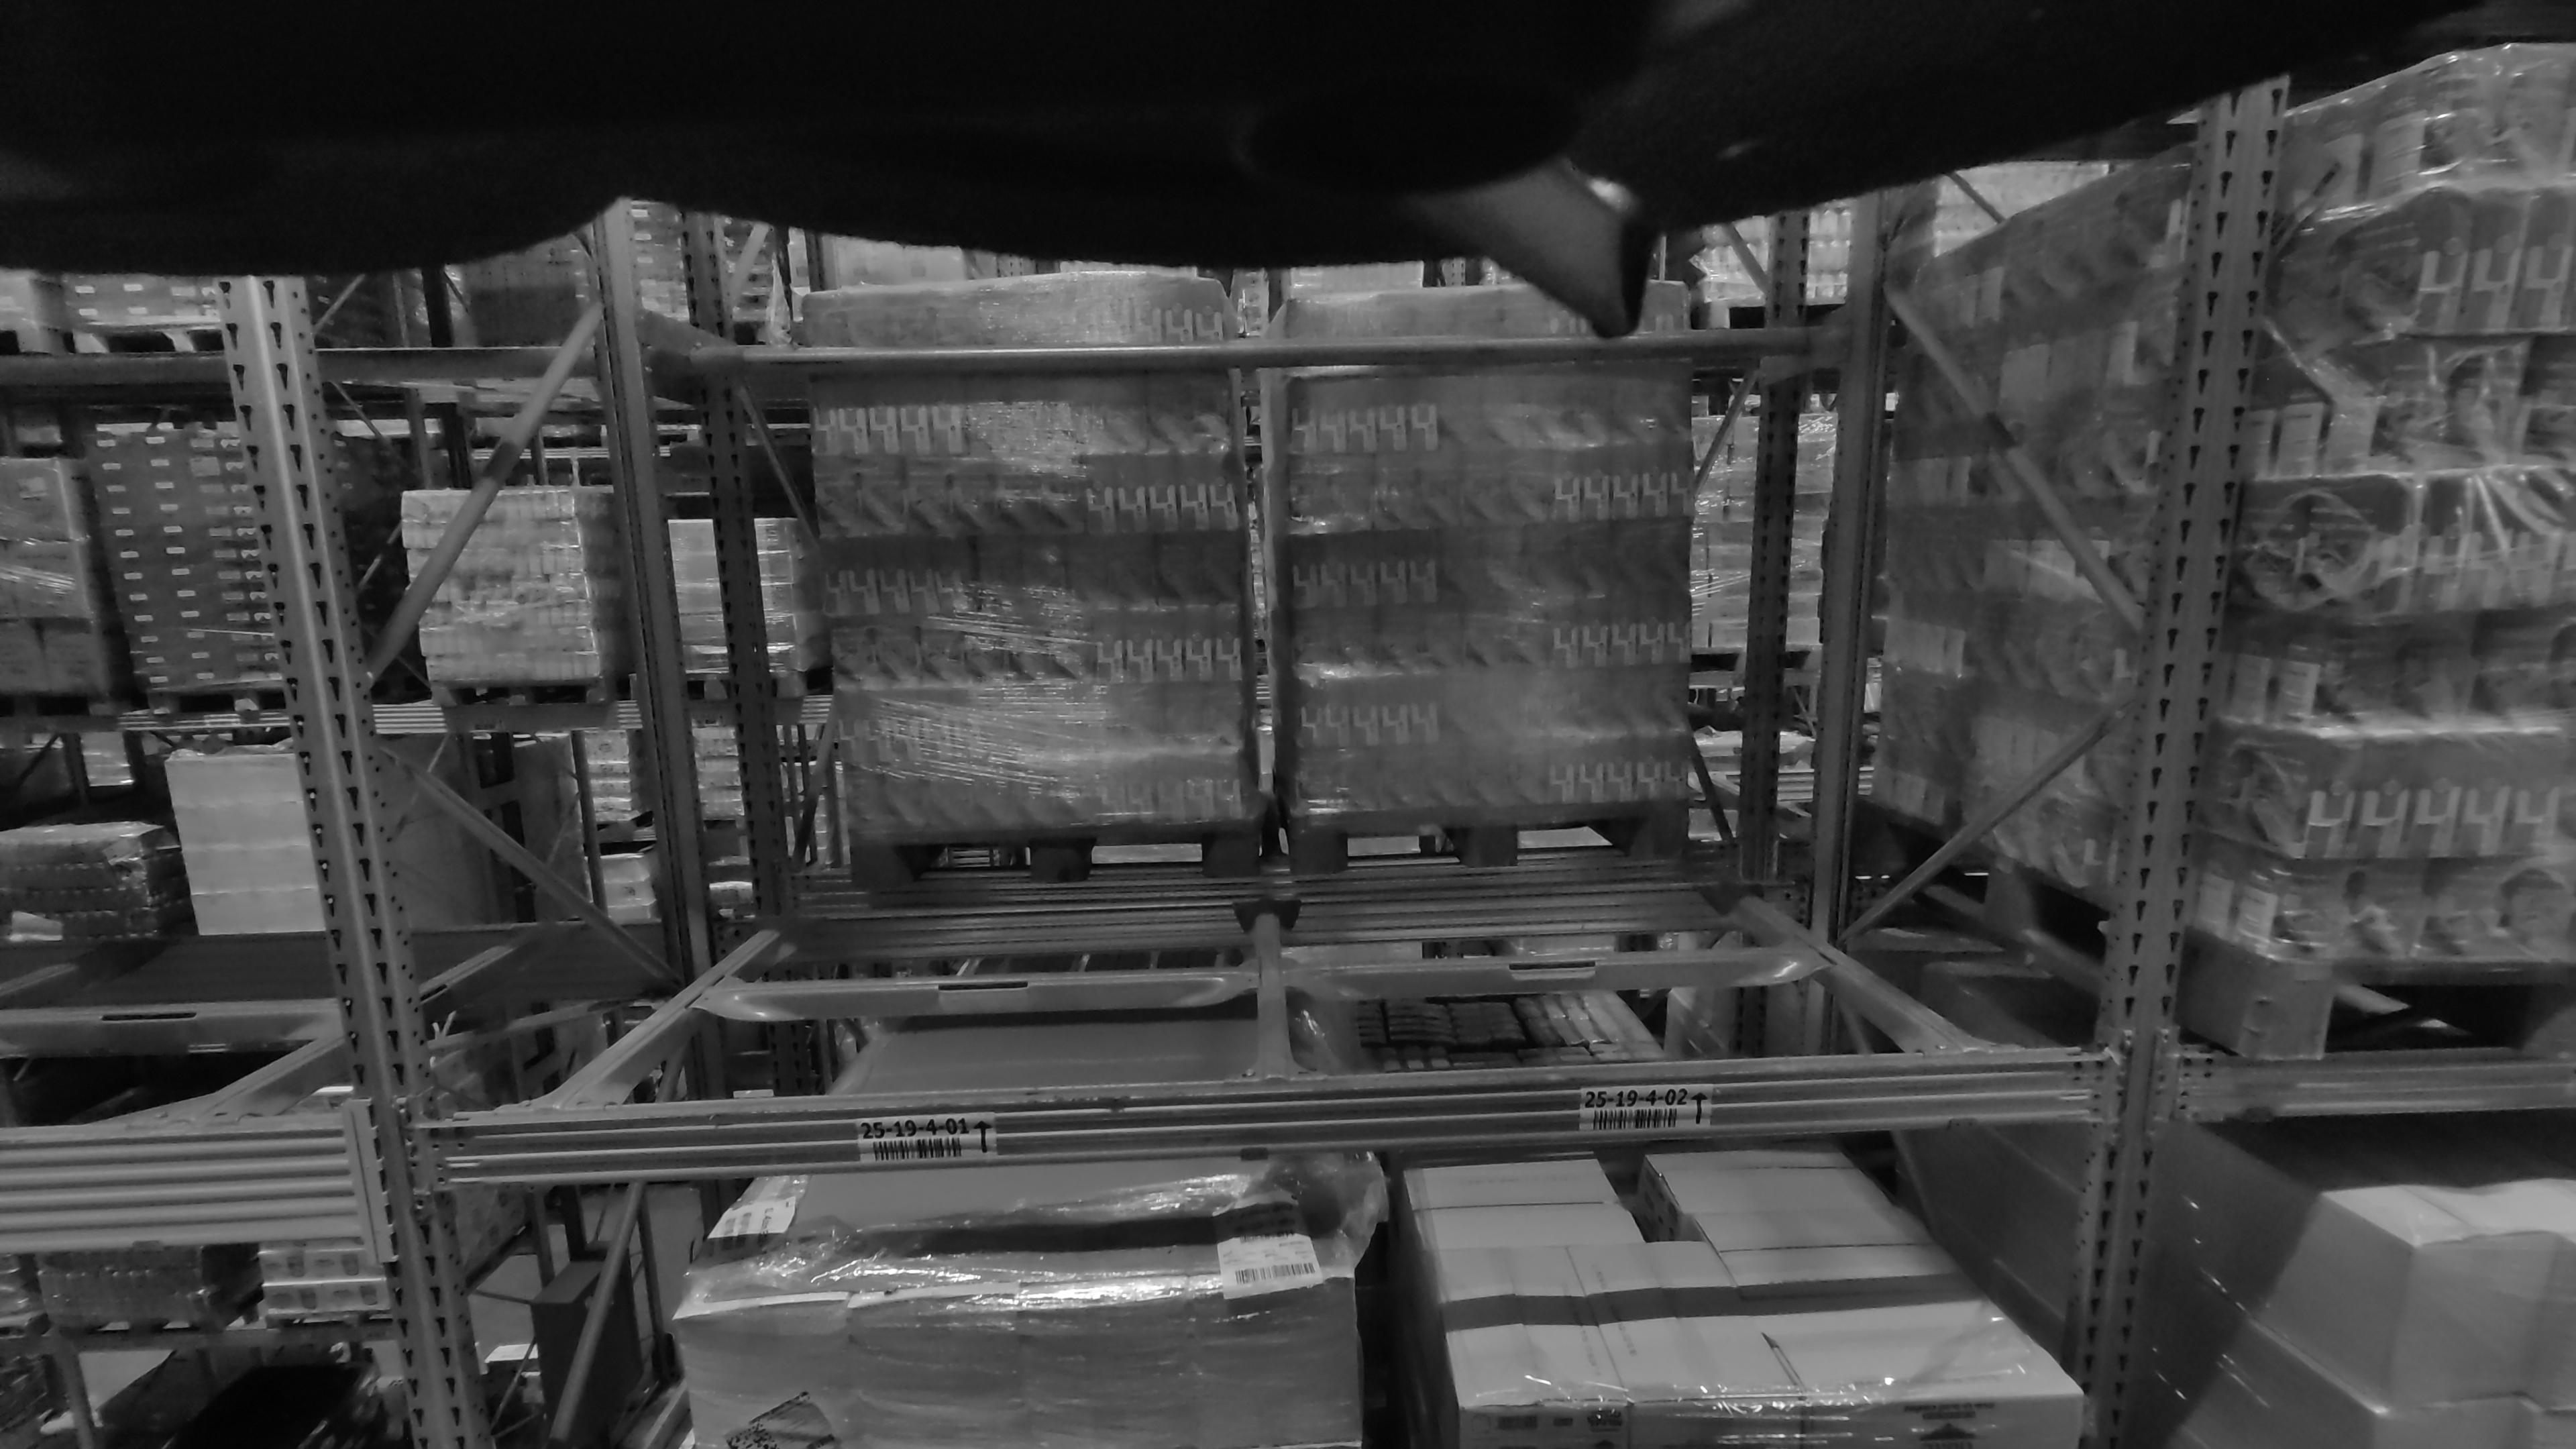empty-shelf: (1297, 152, 1982, 1076), (577, 219, 1226, 1076), (9, 253, 331, 1132)
